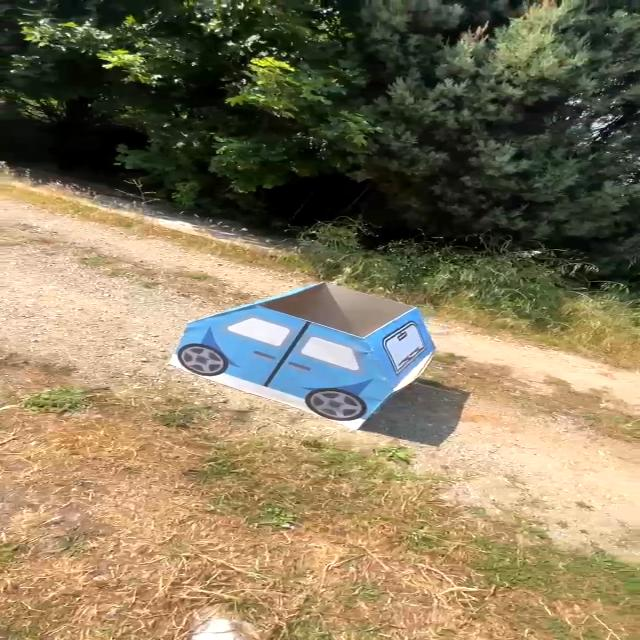blue_car: (151, 271, 460, 446)
